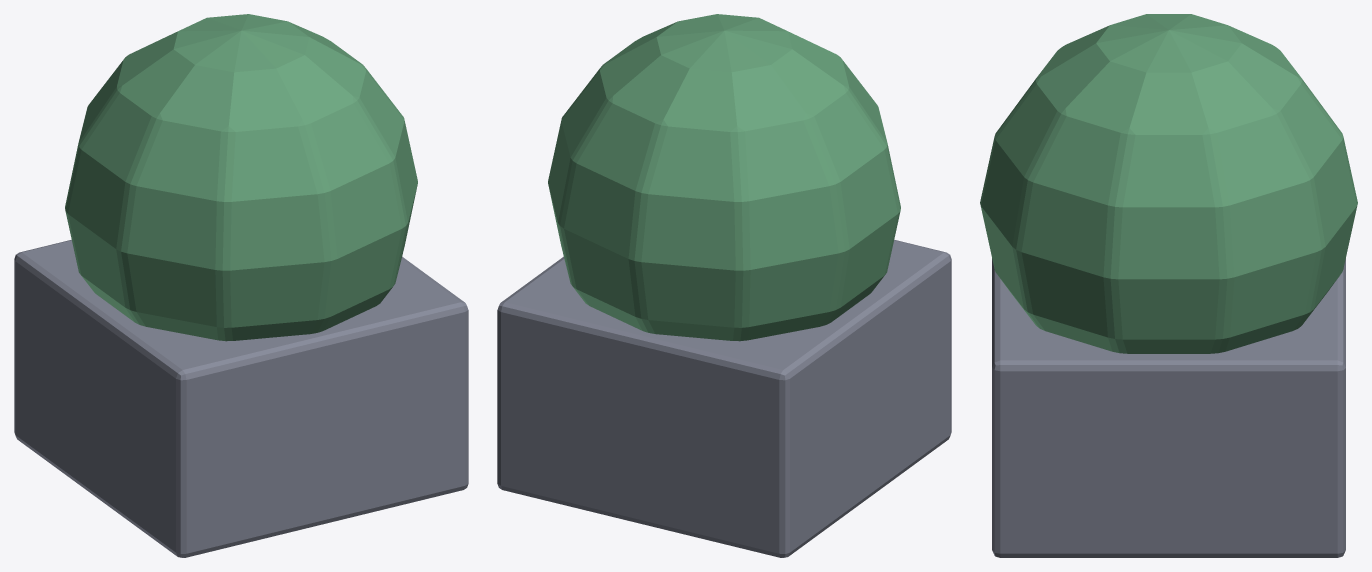
The model's file is SM_Innenstadt_Planter.fbx.
The picture shows the model from 3 angles, left to right: view 1: azimuth 30°, elevation 25°; view 2: azimuth 150°, elevation 25°; view 3: azimuth 270°, elevation 25°; orthographic projection. The views are drawn at different scales.
Visible parts, largest first — view 1: SM_Innenstadt_Planter; view 2: SM_Innenstadt_Planter; view 3: SM_Innenstadt_Planter.
Part boxes in pixels (bbox=[...]): SM_Innenstadt_Planter: bbox=[14, 14, 468, 557]; SM_Innenstadt_Planter: bbox=[497, 14, 951, 557]; SM_Innenstadt_Planter: bbox=[980, 14, 1357, 557].
Size of the model in its own units: 1.33 by 1.85 by 1.39.
